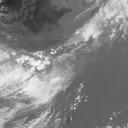cyclone: (30, 35, 84, 93)
